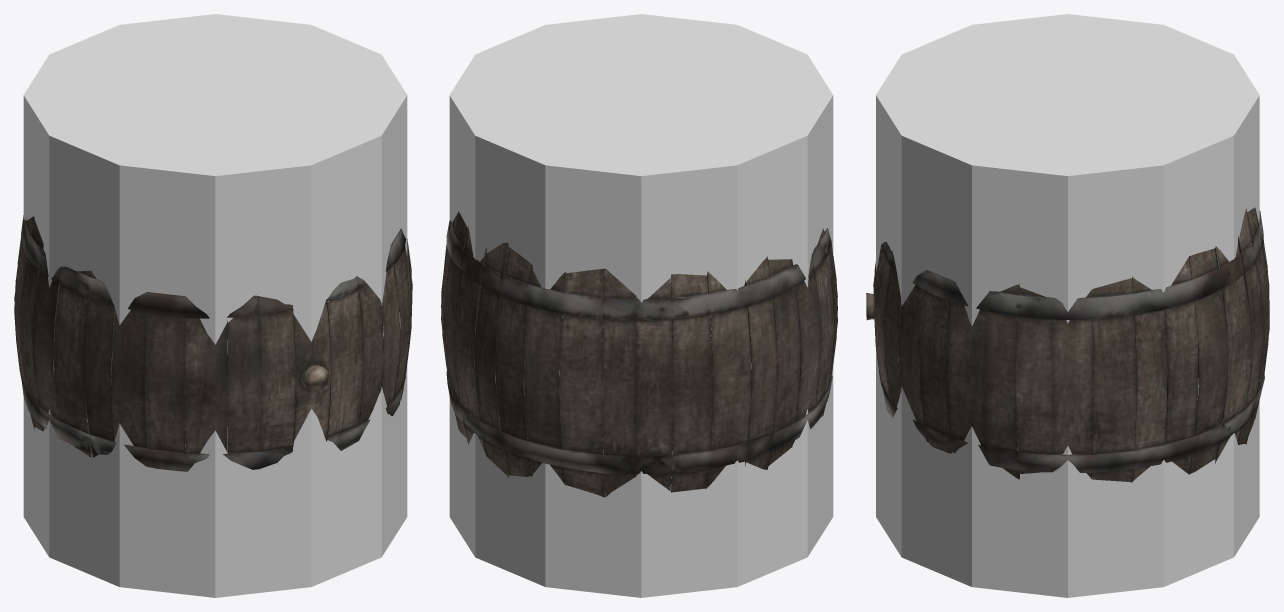
Rendered from wine_barrel_01_sanctuary.glb.
3 views of the same model, side by side, from view 1: azimuth 30°, elevation 25°; view 2: azimuth 150°, elevation 25°; view 3: azimuth 270°, elevation 25° (orthographic).
Parts seen in each view (by area): view 1: col_wine_barrel_01_sanctuary, wine_barrel_01_sanctuary; view 2: col_wine_barrel_01_sanctuary, wine_barrel_01_sanctuary; view 3: col_wine_barrel_01_sanctuary, wine_barrel_01_sanctuary.
Part boxes in pixels (bbox=[...]): col_wine_barrel_01_sanctuary: bbox=[23, 14, 407, 597]; wine_barrel_01_sanctuary: bbox=[14, 215, 412, 471]; col_wine_barrel_01_sanctuary: bbox=[449, 14, 833, 597]; wine_barrel_01_sanctuary: bbox=[441, 211, 837, 497]; col_wine_barrel_01_sanctuary: bbox=[876, 14, 1259, 597]; wine_barrel_01_sanctuary: bbox=[866, 207, 1269, 482].
Bounding box in the file's own units: 0.7421 × 0.8713 × 0.7557.
Materials: 1 (1 with a texture image).
